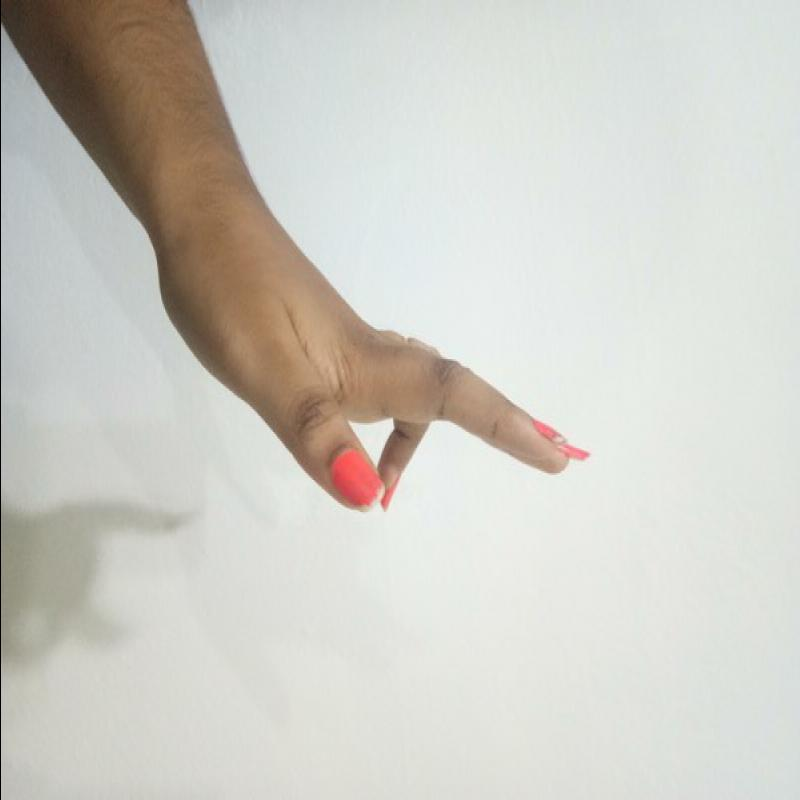Pathaaka: (166, 227, 599, 538)
